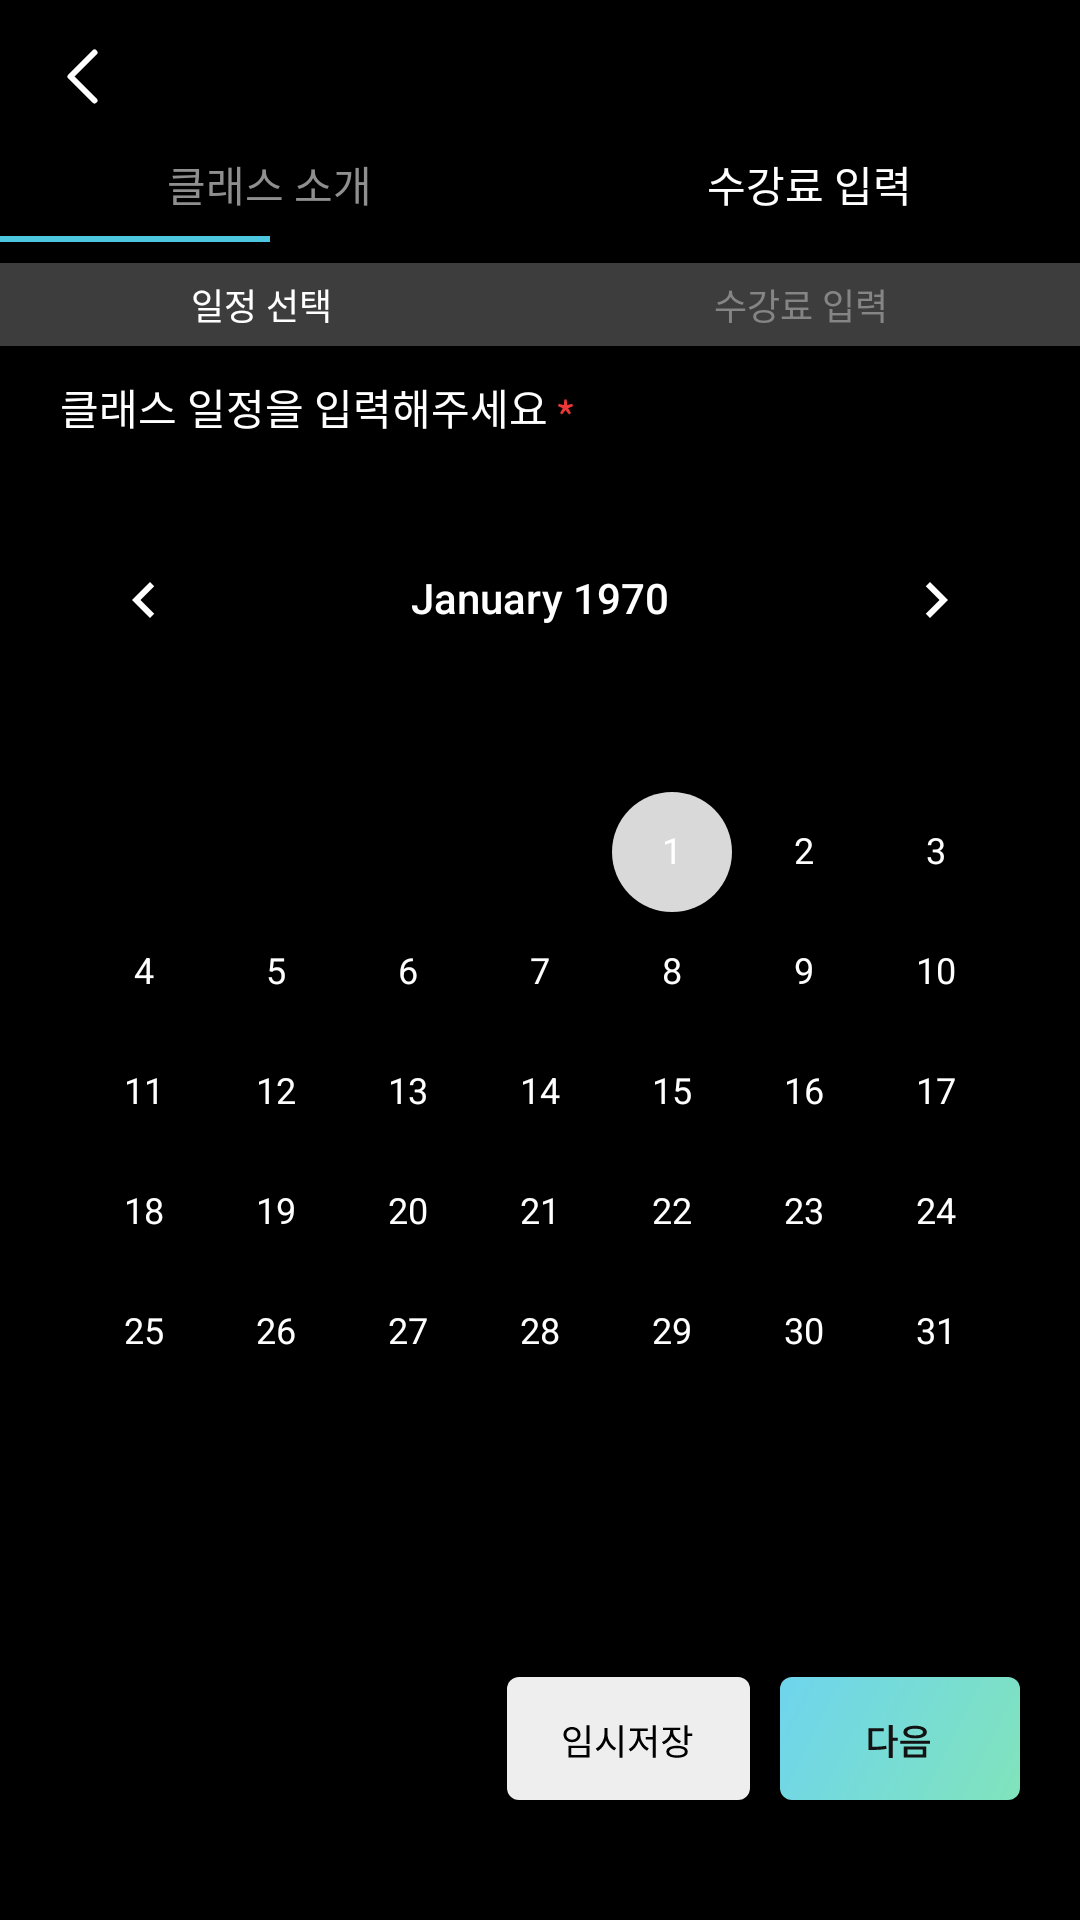

Icon bounding boxes for this 1080w x 1920h phone screenshot, format (x1, y1, x2, y2):
back key: (67, 49, 98, 104)
